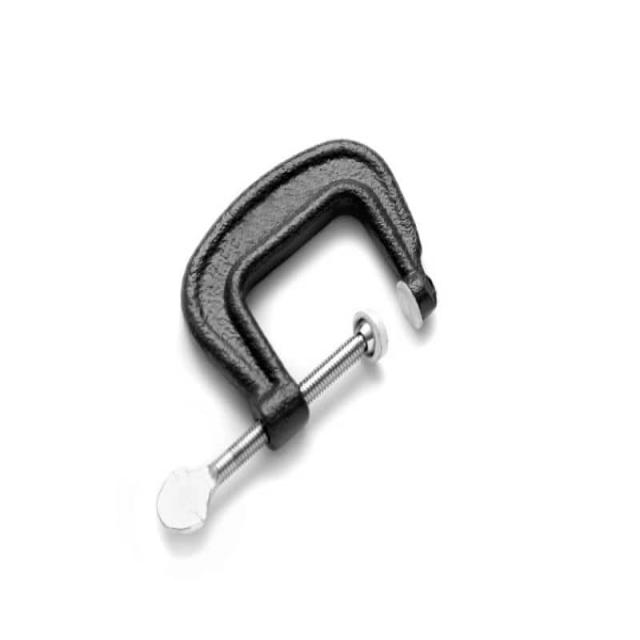c_clamp: (98, 131, 493, 566)
